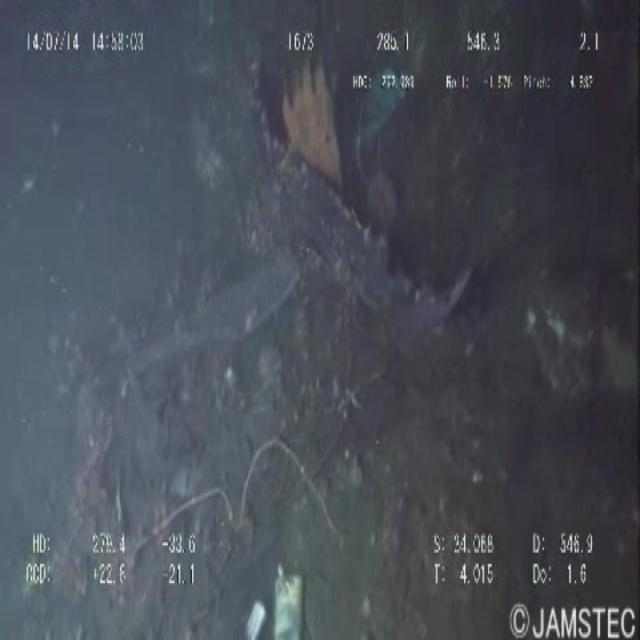Glass: (230, 569, 270, 640)
Litter: (130, 0, 468, 376)
Natual-Debris: (126, 420, 360, 580)
Plastic: (267, 549, 315, 640)
